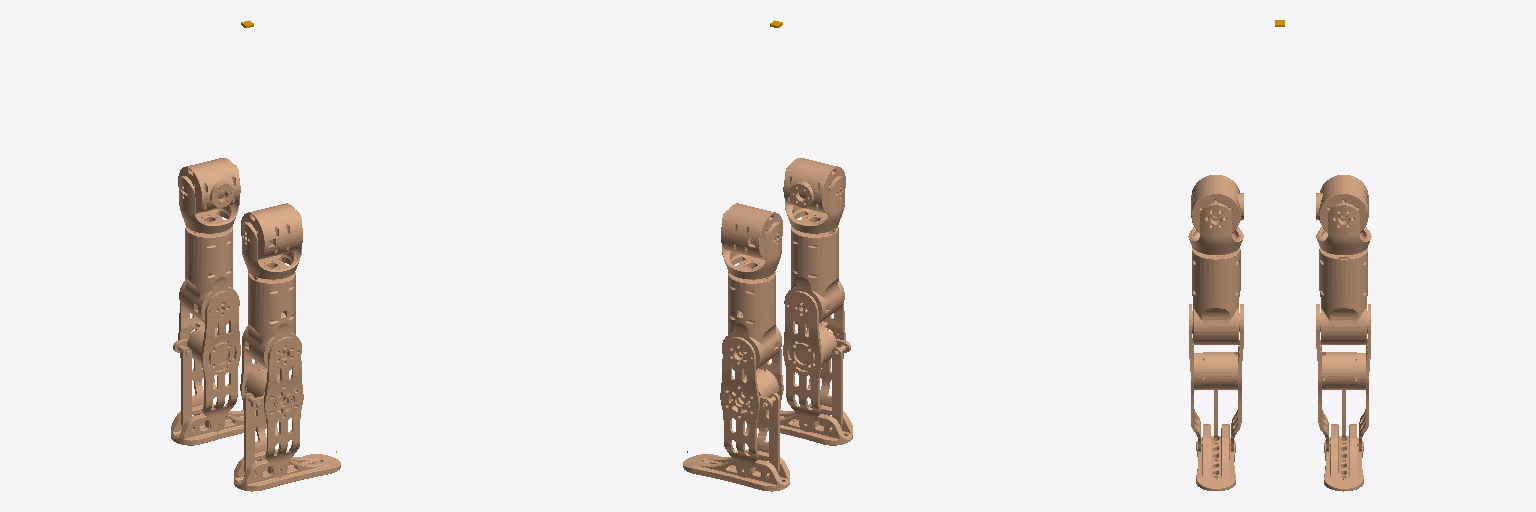
--- What the picture shows (computed from the rendered views, not written in the file) ---
Views: 3 orthographic renders of the robot side by side, from view 1: azimuth 30°, elevation 25°; view 2: azimuth 150°, elevation 25°; view 3: azimuth 270°, elevation 25°.
Model legged_dm_description_no_arm with 21 links and 20 joints (14 revolute, 6 fixed), rooted at base_link, posed every joint at zero.
Visible links, largest first — view 1: leg_l4_link, leg_r4_link, leg_r3_link, leg_l3_link, leg_r5_link, leg_r1_link, leg_l1_link, leg_l5_link, leg_l2_link, leg_r2_link; view 2: leg_r4_link, leg_l4_link, leg_l3_link, leg_r3_link, leg_l5_link, leg_r1_link, leg_l1_link, leg_r5_link, leg_l2_link, leg_r2_link; view 3: leg_r3_link, leg_l3_link, leg_l4_link, leg_r4_link, leg_r5_link, leg_l5_link, leg_r2_link, leg_l2_link, leg_l1_link, leg_r1_link.
Link boxes in pixels (x1,y1,x2,y2): leg_l4_link: (173,291,240,431); leg_r4_link: (240,337,303,477); leg_r3_link: (242,272,301,373); leg_l3_link: (179,226,239,327); leg_r5_link: (234,449,340,491); leg_r1_link: (241,203,302,259); leg_l1_link: (178,158,240,213); leg_l5_link: (171,404,277,445); leg_l2_link: (179,164,239,233); leg_r2_link: (242,210,301,279); leg_r4_link: (783,291,850,431); leg_l4_link: (720,337,783,477); leg_l3_link: (722,272,781,373); leg_r3_link: (784,226,844,327); leg_l5_link: (683,449,789,491); leg_r1_link: (783,158,845,213); leg_l1_link: (721,203,782,259); leg_r5_link: (746,404,852,445); leg_l2_link: (722,210,781,279); leg_r2_link: (785,164,844,233); leg_r3_link: (1192,248,1240,344); leg_l3_link: (1319,248,1367,344); leg_l4_link: (1316,304,1370,451); leg_r4_link: (1189,304,1243,451); leg_r5_link: (1196,424,1235,490); leg_l5_link: (1324,424,1363,491); leg_r2_link: (1188,203,1243,254); leg_l2_link: (1316,203,1371,254); leg_l1_link: (1316,175,1368,232); leg_r1_link: (1191,175,1243,232).
Bounding box of the posed robot: 0.1801 × 0.274 × 0.7254 m (x, y, z).
Meshes: 12 distinct files referenced, 10 mesh visuals loaded (10 binary STL); not drawn: 2 (reference not matched to a file when rendering).

robot.urdf — legged_dm_description_no_arm:
<?xml version="1.0" encoding="utf-8"?>
<!-- This URDF was automatically created by SolidWorks to URDF Exporter! Originally created by Stephen Brawner ([email redacted]) 
     Commit Version: 1.6.0-4-g7f85cfe  Build Version: 1.6.7995.38578
     For more information, please see http://wiki.ros.org/sw_urdf_exporter -->
<robot
  name="legged_dm_description_no_arm">
  
  
    <gazebo>
    <plugin name="gazebo_ros_control" filename="libdm_bipedal_hw_sim.so">
      <robotNamespace>/</robotNamespace>
      <robotParam>legged_robot_description</robotParam>
      <robotSimType>legged_gazebo/LeggedHWSim</robotSimType>
    </plugin>
  </gazebo>

  <gazebo>
    <plugin filename="libgazebo_ros_p3d.so" name="p3d_base_controller">
      <alwaysOn>true</alwaysOn>
      <updateRate>500.0</updateRate>
      <bodyName>base_link</bodyName>
      <topicName>ground_truth/state</topicName>
      <gaussianNoise>0</gaussianNoise>
      <frameName>world</frameName>
      <xyzOffsets>0 0 0</xyzOffsets>
      <rpyOffsets>0 0 0</rpyOffsets>
    </plugin>
  </gazebo>
  
  
     <joint name="imu_joint" type="fixed">
    <origin rpy="0. 0. 0." xyz="0. 0. 0"/>
    <parent link="base_link"/>
    <child link="imu_link"/>
  </joint>
  <!-- Imu link -->
  <link name="imu_link">
    <inertial>
      <mass value="0.01"/>
      <origin rpy="0 0 0" xyz="0 0 0"/>
      <inertia ixx="0.000001" ixy="0" ixz="0" iyy="0.000001" iyz="0" izz="0.000001"/>
    </inertial>
    <visual>
      <origin rpy="0 0 0" xyz="0 0 0"/>
      <geometry>
        <box size="0.015 0.015 0.004"/>
      </geometry>
    </visual>
    <material name="orange">
      <color rgba="255 108 10 255"/>
    </material>
  </link>
  <gazebo reference="imu_joint">
    <disableFixedJointLumping>true</disableFixedJointLumping>
  </gazebo>
  
  
  <link
    name="base_link">
    <inertial>
      <origin
        xyz="-0.012778 -0.00067 -0.129359"
        rpy="0 0 0" />
      <mass
        value="3.71439" />
      <inertia
        ixx="0.031142"
        ixy="-0.000028"
        ixz="-0.000387"
        iyy="0.025979"
        iyz="-0.000195"
        izz="0.014437" />
    </inertial>
    <visual>
      <origin
        xyz="0 0 0"
        rpy="0 0 0" />
      <geometry>
        <mesh
          filename="package://legged_dm_description/meshes/base_link.STL" />
      </geometry>
      <material
        name="">
        <color
          rgba="0.792156862745098 0.819607843137255 0.933333333333333 1" />
      </material>
    </visual>
    <collision>
      <origin
        xyz="-0.01 0 -0.11"
        rpy="0 0 0" />
      <geometry>
        <box size="0.10 0.12 0.24" />
      </geometry>
    </collision>
  </link>
  
  
  <link
    name="loin_yaw_Link">
    <inertial>
      <origin
        xyz="-0.00002 0.0 -0.0515"
        rpy="0 0 0" />
      <mass
        value="1.1846" />
      <inertia
        ixx="0.002262"
        ixy="-0.000001"
        ixz="0.000011"
        iyy="0.001324"
        iyz="0.0"
        izz="0.002179" />
    </inertial>
    <visual>
      <origin
        xyz="0 0 0"
        rpy="0 0 0" />
      <geometry>
        <mesh
          filename="package://legged_dm_description/meshes/loin_yaw_Link.STL" />
      </geometry>
      <material
        name="">
        <color
          rgba="0.792156862745098 0.819607843137255 0.933333333333333 1" />
      </material>
    </visual>
    <collision>
      <origin
        xyz="0 0 -0.045"
        rpy="0 0 0" />
      <geometry>
        <box size="0.08 0.1 0.07" />
      </geometry>
    </collision>
  </link>
  <joint
    name="loin_yaw_joint"
    type="fixed">
    <origin
      xyz="-0.012333 0 -0.24525"
      rpy="0 0 0" />
    <parent
      link="base_link" />
    <child
      link="loin_yaw_Link" />
    <axis
      xyz="0 0 0" />
  </joint>
  
  
  <link
    name="leg_l1_link">
    <inertial>
      <origin
        xyz="0.003165 0.041652 -0.000064"
        rpy="0 0 0" />
      <mass
        value="0.492347" />
      <inertia
        ixx="0.000303"
        ixy="-0.000002"
        ixz="-0.000001"
        iyy="0.00030"
        iyz="0.00000"
        izz="0.000304" />
    </inertial>
    <visual>
      <origin
        xyz="0 0 0"
        rpy="0 0 0" />
      <geometry>
        <mesh
          filename="package://legged_dm_description/meshes/leg_l1_link.STL" />
      </geometry>
      <material
        name="">
        <color
          rgba="0.854901960784314 0.674509803921569 0.541176470588235 1" />
      </material>
    </visual>
    <collision>
      <origin
        xyz="0 0 0"
        rpy="0 0 0" />
      <geometry>
        <box size="0.0001 0.0001 0.0001" />
      </geometry>
    </collision>
  </link>
  <joint
    name="leg_l1_joint"
    type="revolute">
    <origin
      xyz="3.7385E-05 0.05355 -0.062"
      rpy="0 0 0" />
    <parent
      link="loin_yaw_Link" />
    <child
      link="leg_l1_link" />
    <axis
      xyz="0 1 0" />
    <limit
      lower="-1.05"
      upper="1.05"
      effort="26"
      velocity="10" />
  </joint>
  
  
  <link
    name="leg_l2_link">
    <inertial>
      <origin
        xyz="-0.031797 0.000022 -0.037074"
        rpy="0 0 0" />
      <mass
        value="0.11551" />
      <inertia
        ixx="0.000117"
        ixy="0.0"
        ixz="0.000003"
        iyy="0.000192"
        iyz="0.0"
        izz="0.000149" />
    </inertial>
    <visual>
      <origin
        xyz="0 0 0"
        rpy="0 0 0" />
      <geometry>
        <mesh
          filename="package://legged_dm_description/meshes/leg_l2_link.STL" />
      </geometry>
      <material
        name="">
        <color
          rgba="0.854901960784314 0.674509803921569 0.541176470588235 1" />
      </material>
    </visual>
    <collision>
      <origin
        xyz="0 0 0"
        rpy="0 0 0" />
      <geometry>
        <box size="0.0001 0.0001 0.0001" />
      </geometry>
    </collision>
  </link>
  <joint
    name="leg_l2_joint"
    type="revolute">
    <origin
      xyz="0.031079 0.041978 0"
      rpy="0 0 0" />
    <parent
      link="leg_l1_link" />
    <child
      link="leg_l2_link" />
    <axis
      xyz="1 0 0" />
    <limit
      lower="-0.52"
      upper="0.785"
      effort="26"
      velocity="10" />
  </joint>
  
  
  <link
    name="leg_l3_link">
    <inertial>
      <origin
        xyz="-0.000094 0.001497 -0.07069"
        rpy="0 0 0" />
      <mass
        value="0.921105" />
      <inertia
        ixx="0.002384"
        ixy="0.000001"
        ixz="0.00001"
        iyy="0.002365"
        iyz="0.000068"
        izz="0.000563" />
    </inertial>
    <visual>
      <origin
        xyz="0 0 0"
        rpy="0 0 0" />
      <geometry>
        <mesh
          filename="package://legged_dm_description/meshes/leg_l3_link.STL" />
      </geometry>
      <material
        name="">
        <color
          rgba="0.854901960784314 0.674509803921569 0.541176470588235 1" />
      </material>
    </visual>
    <collision>
      <origin
        xyz="0 0 0"
        rpy="0 0 0" />
      <geometry>
        <box size="0.0001 0.0001 0.0001" />
      </geometry>
    </collision>
  </link>
  <joint
    name="leg_l3_joint"
    type="revolute">
    <origin
      xyz="-0.03105 2.1677E-05 -0.07405"
      rpy="0 0 0" />
    <parent
      link="leg_l2_link" />
    <child
      link="leg_l3_link" />
    <axis
      xyz="0 0 1" />
    <limit
      lower="-0.52"
      upper="0.785"
      effort="26"
      velocity="10" />
  </joint>
  
  
  <link
    name="leg_l4_link">
    <inertial>
      <origin
        xyz="-0.003284 -0.032312 -0.084258"
        rpy="0 0 0" />
      <mass
        value="0.519684" />
      <inertia
        ixx="0.001062"
        ixy="0.000007"
        ixz="-0.000074"
        iyy="0.000984"
        iyz="0.000007"
        izz="0.000426" />
    </inertial>
    <visual>
      <origin
        xyz="0 0 0"
        rpy="0 0 0" />
      <geometry>
        <mesh
          filename="package://legged_dm_description/meshes/leg_l4_link.STL" />
      </geometry>
      <material
        name="">
        <color
          rgba="0.854901960784314 0.674509803921569 0.541176470588235 1" />
      </material>
    </visual>
    <collision>
      <origin xyz="0 -0.03 -0.1" rpy="0 0 0" />
      <geometry>
        <box size="0.041 0.07 0.15" />
      </geometry>
    </collision>
  </link>
  <joint
    name="leg_l4_joint"
    type="revolute">
    <origin
      xyz="2.1677E-05 0.03105 -0.11705"
      rpy="0 0 0" />
    <parent
      link="leg_l3_link" />
    <child
      link="leg_l4_link" />
    <axis
      xyz="0 1 0" />
    <limit
      lower="-0.3"
      upper="2.3562"
      effort="26"
      velocity="10" />
  </joint>
  
  
  <link
    name="leg_l5_link">
    <inertial>
      <origin
        xyz="0.01392 -0.008010 -0.013513"
        rpy="0 0 0" />
      <mass
        value="0.172725" />
      <inertia
        ixx="0.000062"
        ixy="0.0"
        ixz="0.000027"
        iyy="0.000375"
        iyz="0.0"
        izz="0.0004" />
    </inertial>
    <visual>
      <origin
        xyz="0 0 0"
        rpy="0 0 0" />
      <geometry>
        <mesh
          filename="package://legged_dm_description/meshes/leg_l5_link.STL" />
      </geometry>
      <material
        name="">
        <color
          rgba="0.854901960784314 0.674509803921569 0.541176470588235 1" />
      </material>
    </visual>
     <collision>
      <origin
        xyz="0.027 -0.008 -0.015"
        rpy="0 0 0" />
      <geometry>
        <box size="0.175 0.06 0.02" />
      </geometry>
    </collision>
  </link>
  <joint
    name="leg_l5_joint"
    type="revolute">
    <origin
      xyz="-3.1151E-05 -0.02305 -0.2"
      rpy="0 0 0" />
    <parent
      link="leg_l4_link" />
    <child
      link="leg_l5_link" />
    <axis
      xyz="0 1 0" />
    <limit
      lower="-1.047"
      upper="0.3"
      effort="26"
      velocity="10" />
  </joint>
    <!-- ===== Left leg extra joints for 6 & 7 ===== -->
  <link name="leg_l6_link">
    <inertial>
      <origin xyz="0 0 0" rpy="0 0 0"/>
      <mass value="0.01"/>
      <inertia ixx="1e-6" ixy="0" ixz="0" iyy="1e-6" iyz="0" izz="1e-6"/>
    </inertial>
    <visual><origin xyz="0 0 0" rpy="0 0 0"/><geometry><sphere radius="0.001"/></geometry></visual>
    <collision><origin xyz="0 0 0" rpy="0 0 0"/><geometry><sphere radius="0.001"/></geometry></collision>
  </link>
  <joint name="leg_l6_joint" type="revolute">
    <origin xyz="0 0 0" rpy="0 0 0"/>
    <parent link="leg_l5_link"/>
    <child  link="leg_l6_link"/>
    <axis xyz="0 1 0"/>
    <limit lower="-1.57" upper="1.57" effort="26" velocity="10"/>
  </joint>

  <link name="leg_l7_link">
    <inertial>
      <origin xyz="0 0 0" rpy="0 0 0"/>
      <mass value="0.01"/>
      <inertia ixx="1e-6" ixy="0" ixz="0" iyy="1e-6" iyz="0" izz="1e-6"/>
    </inertial>
    <visual><origin xyz="0 0 0" rpy="0 0 0"/><geometry><sphere radius="0.001"/></geometry></visual>
    <collision><origin xyz="0 0 0" rpy="0 0 0"/><geometry><sphere radius="0.001"/></geometry></collision>
  </link>
  <joint name="leg_l7_joint" type="revolute">
    <origin xyz="0 0 0" rpy="0 0 0"/>
    <parent link="leg_l6_link"/>
    <child  link="leg_l7_link"/>
    <axis xyz="0 1 0"/>
    <limit lower="-1.57" upper="1.57" effort="26" velocity="10"/>
  </joint>

  
  
  <joint name="leg_l5_fixed_1" type="fixed">
    <origin xyz="0.113 -0.008 -0.006" rpy="0 0 0" />
    <parent link="leg_l5_link" />
    <child link="leg_l_f1_link" />
  </joint>
  <link name="leg_l_f1_link">
    <inertial>
      <mass value="0.01" />
      <inertia ixx="0.000001" ixy="0" ixz="0" iyy="0.000001" iyz="0" izz="0.000001" />
    </inertial>
    <visual>
      <origin rpy="0 0 0" xyz="0 0 0"/>
      <geometry>
        <sphere radius="0.001"/>
      </geometry>
    </visual>
    <collision>
      <origin rpy="0 0 0" xyz="0 0 0"/>
      <geometry>
        <sphere radius="0.001"/>
      </geometry>
    </collision>
  </link>

  <joint name="leg_l5_fixed_2" type="fixed">
    <origin xyz="-0.061 -0.008 -0.006" rpy="0 0 0" />
    <parent link="leg_l5_link" />
    <child link="leg_l_f2_link" />
  </joint>
  <link name="leg_l_f2_link">
    <inertial>
      <mass value="0.01" />
      <inertia ixx="0.000001" ixy="0" ixz="0" iyy="0.000001" iyz="0" izz="0.000001" />
    </inertial>
    <visual>
      <origin rpy="0 0 0" xyz="0 0 0"/>
      <geometry>
        <sphere radius="0.001"/>
      </geometry>
    </visual>
    <collision>
      <origin rpy="0 0 0" xyz="-0 0 0"/>
      <geometry>
        <sphere radius="0.001"/>
      </geometry>
    </collision>
  </link>

   <gazebo reference="leg_l1_link">
    <mu1>0.6</mu1>
    <mu2>0.6</mu2>
    <self_collide>1</self_collide>
  </gazebo>
  <gazebo reference="leg_l2_link">
    <mu1>0.6</mu1>
    <mu2>0.6</mu2>
    <self_collide>1</self_collide>
  </gazebo>
  <gazebo reference="leg_l3_link">
    <mu1>0.6</mu1>
    <mu2>0.6</mu2>
    <self_collide>1</self_collide>
  </gazebo>
  <gazebo reference="leg_l4_link">
    <mu1>0.6</mu1>
    <mu2>0.6</mu2>
    <self_collide>1</self_collide>
  </gazebo>
  <gazebo reference="leg_l5_link">
    <mu1>0.7</mu1>
    <mu2>0.7</mu2>
    <self_collide>1</self_collide>
    <kp value="1000000.0"/>
    <kd value="100.0"/>
    <maxVel>1.0</maxVel>
    <minDepth>0.00</minDepth>
  </gazebo>
  <gazebo reference="leg_l_f1_link">
    <mu1>1.5</mu1>
    <mu2>1.5</mu2>
    <self_collide>1</self_collide>
    <kp value="1000000.0"/>
    <kd value="100.0"/>
    <maxVel>1.0</maxVel>
    <minDepth>0.00</minDepth>
  </gazebo>
  <gazebo reference="leg_l_f2_link">
    <mu1>1.5</mu1>
    <mu2>1.5</mu2>
    <self_collide>1</self_collide>
    <kp value="1000000.0"/>
    <kd value="100.0"/>
    <maxVel>1.0</maxVel>
    <minDepth>0.00</minDepth>
  </gazebo>

  <transmission name="leg_l1_tran">
    <type>transmission_interface/SimpleTransmission</type>
    <joint name="leg_l1_joint">
      <hardwareInterface>hardware_interface/EffortJointInterface</hardwareInterface>
    </joint>
    <actuator name="leg_l1_motor">
      <hardwareInterface>hardware_interface/EffortJointInterface</hardwareInterface>
      <mechanicalReduction>1</mechanicalReduction>
    <maxVelocity>1.484</maxVelocity><!-- 85rpm -->
	  <maxEffort>36.0</maxEffort><!-- 36Nm -->
    </actuator>
  </transmission>

  <transmission name="leg_l2_tran">
    <type>transmission_interface/SimpleTransmission</type>
    <joint name="leg_l2_joint">
      <hardwareInterface>hardware_interface/EffortJointInterface</hardwareInterface>
    </joint>
    <actuator name="leg_l2_motor">
      <hardwareInterface>hardware_interface/EffortJointInterface</hardwareInterface>
      <mechanicalReduction>1</mechanicalReduction>
    <maxVelocity>2.6545</maxVelocity><!-- 160rpm -->
	  <maxEffort>94.0</maxEffort><!-- 94Nm -->
    </actuator>
  </transmission>

  <transmission name="leg_l3_tran">
    <type>transmission_interface/SimpleTransmission</type>
    <joint name="leg_l3_joint">
      <hardwareInterface>hardware_interface/EffortJointInterface</hardwareInterface>
    </joint>
    <actuator name="leg_l3_motor">
      <hardwareInterface>hardware_interface/EffortJointInterface</hardwareInterface>
      <mechanicalReduction>1</mechanicalReduction>
    <maxVelocity>2.6545</maxVelocity><!-- 160rpm -->
	  <maxEffort>94.0</maxEffort><!-- 94Nm -->
    </actuator>
  </transmission>

  <transmission name="leg_l4_tran">
    <type>transmission_interface/SimpleTransmission</type>
    <joint name="leg_l4_joint">
      <hardwareInterface>hardware_interface/EffortJointInterface</hardwareInterface>
    </joint>
    <actuator name="leg_l4_motor">
      <hardwareInterface>hardware_interface/EffortJointInterface</hardwareInterface>
      <mechanicalReduction>1</mechanicalReduction>
    <maxVelocity>1.484</maxVelocity><!-- 85rpm -->
	<maxEffort>36.0</maxEffort><!-- 36Nm -->
    </actuator>
  </transmission>

  <transmission name="leg_l5_tran">
    <type>transmission_interface/SimpleTransmission</type>
    <joint name="leg_l5_joint">
      <hardwareInterface>hardware_interface/EffortJointInterface</hardwareInterface>
    </joint>
    <actuator name="leg_l5_motor">
      <hardwareInterface>hardware_interface/EffortJointInterface</hardwareInterface>
      <mechanicalReduction>1</mechanicalReduction>
    </actuator>
  </transmission>

    <transmission name="leg_l6_tran">
    <type>transmission_interface/SimpleTransmission</type>
    <joint name="leg_l6_joint">
      <hardwareInterface>hardware_interface/EffortJointInterface</hardwareInterface>
    </joint>
    <actuator name="leg_l6_motor">
      <hardwareInterface>hardware_interface/EffortJointInterface</hardwareInterface>
      <mechanicalReduction>1</mechanicalReduction>
    </actuator>
  </transmission>

  <transmission name="leg_l7_tran">
    <type>transmission_interface/SimpleTransmission</type>
    <joint name="leg_l7_joint">
      <hardwareInterface>hardware_interface/EffortJointInterface</hardwareInterface>
    </joint>
    <actuator name="leg_l7_motor">
      <hardwareInterface>hardware_interface/EffortJointInterface</hardwareInterface>
      <mechanicalReduction>1</mechanicalReduction>
    </actuator>
  </transmission>




  
  <link
    name="leg_r1_link">
    <inertial>
      <origin
        xyz="0.003106 -0.041675 -0.000072"
        rpy="0 0 0" />
      <mass
        value="0.4921" />
      <inertia
        ixx="0.000303"
        ixy="0.000002"
        ixz="-0.000001"
        iyy="0.0003"
        iyz="0.0"
        izz="0.000304" />
    </inertial>
    <visual>
      <origin
        xyz="0 0 0"
        rpy="0 0 0" />
      <geometry>
        <mesh
          filename="package://legged_dm_description/meshes/leg_r1_link.STL" />
      </geometry>
      <material
        name="">
        <color
          rgba="0.854901960784314 0.674509803921569 0.541176470588235 1" />
      </material>
    </visual>
    <collision>
      <origin
        xyz="0 0 0"
        rpy="0 0 0" />
      <geometry>
        <box size="0.0001 0.0001 0.0001" />
      </geometry>
    </collision>
  </link>
  <joint
    name="leg_r1_joint"
    type="revolute">
    <origin
      xyz="-3.7385E-05 -0.05355 -0.062"
      rpy="0 0 0" />
    <parent
      link="loin_yaw_Link" />
    <child
      link="leg_r1_link" />
    <axis
      xyz="0 1 0" />
    <limit
      lower="-1.05"
      upper="1.05"
      effort="26"
      velocity="10" />
  </joint>
  
  
  <link
    name="leg_r2_link">
    <inertial>
      <origin
        xyz="-0.031797 0.000022 -0.037074"
        rpy="0 0 0" />
      <mass
        value="0.115510" />
      <inertia
        ixx="0.000117"
        ixy="0.0"
        ixz="0.000003"
        iyy="0.000192"
        iyz="0.0"
        izz="0.000149" />
    </inertial>
    <visual>
      <origin
        xyz="0 0 0"
        rpy="0 0 0" />
      <geometry>
        <mesh
          filename="package://legged_dm_description/meshes/leg_r2_link.STL" />
      </geometry>
      <material
        name="">
        <color
          rgba="0.854901960784314 0.674509803921569 0.541176470588235 1" />
      </material>
    </visual>
    <collision>
      <origin
        xyz="0 0 0"
        rpy="0 0 0" />
      <geometry>
        <box size="0.0001 0.0001 0.0001" />
      </geometry>
    </collision>
  </link>
  <joint
    name="leg_r2_joint"
    type="revolute">
    <origin
      xyz="0.031021 -0.042022 0"
      rpy="0 0 0" />
    <parent
      link="leg_r1_link" />
    <child
      link="leg_r2_link" />
    <axis
      xyz="1 0 0" />
    <limit
      lower="-0.785"
      upper="0.52"
      effort="26"
      velocity="10" />
  </joint>
  
  
  <link
    name="leg_r3_link">
    <inertial>
      <origin
        xyz="0.000186 -0.001497 -0.070691"
        rpy="0 0 0" />
      <mass
        value="0.921105" />
      <inertia
        ixx="0.002384"
        ixy="-0.000001"
        ixz="-0.000006"
        iyy="0.002365"
        iyz="-0.000068"
        izz="0.000563" />
    </inertial>
    <visual>
      <origin
        xyz="0 0 0"
        rpy="0 0 0" />
      <geometry>
        <mesh
          filename="package://legged_dm_description/meshes/leg_r3_link.STL" />
      </geometry>
      <material
        name="">
        <color
          rgba="0.854901960784314 0.674509803921569 0.541176470588235 1" />
      </material>
    </visual>
    <collision>
      <origin
        xyz="0 0 0"
        rpy="0 0 0" />
      <geometry>
        <box size="0.0001 0.0001 0.0001" />
      </geometry>
    </collision>
  </link>
  <joint
    name="leg_r3_joint"
    type="revolute">
    <origin
      xyz="-0.03105 2.1677E-05 -0.07405"
      rpy="0 0 0" />
    <parent
      link="leg_r2_link" />
    <child
      link="leg_r3_link" />
    <axis
      xyz="0 0 1" />
    <limit
      lower="-0.785"
      upper="0.52"
      effort="26"
      velocity="10" />
  </joint>
  
  
  <link
    name="leg_r4_link">
    <inertial>
      <origin
        xyz="-0.00318 0.032366 -0.084259"
        rpy="0 0 0" />
      <mass
        value="0.519684" />
      <inertia
        ixx="0.001062"
        ixy="-0.000008"
        ixz="-0.000074"
        iyy="0.000984"
        iyz="-0.000007"
        izz="0.000426" />
    </inertial>
    <visual>
      <origin
        xyz="0 0 0"
        rpy="0 0 0" />
      <geometry>
        <mesh
          filename="package://legged_dm_description/meshes/leg_r4_link.STL" />
      </geometry>
      <material
        name="">
        <color
          rgba="0.854901960784314 0.674509803921569 0.541176470588235 1" />
      </material>
    </visual>
    <collision>
      <origin xyz="0 0.03 -0.1" rpy="0 0 0" />
      <geometry>
        <box size="0.041 0.07 0.15" />
      </geometry>
    </collision>
  </link>
  <joint
    name="leg_r4_joint"
    type="revolute">
    <origin
      xyz="-2.1677E-05 -0.03105 -0.11705"
      rpy="0 0 0" />
    <parent
      link="leg_r3_link" />
    <child
      link="leg_r4_link" />
    <axis
      xyz="0 1 0" />
    <limit
      lower="-0.3"
      upper="2.3562"
      effort="26"
      velocity="10" />
  </joint>
  
  
  <link
    name="leg_r5_link">
    <inertial>
      <origin
        xyz="0.013933 0.007990 -0.013512"
        rpy="0 0 0" />
      <mass
        value="0.172725" />
      <inertia
        ixx="0.000062"
        ixy="0.0"
        ixz="0.000027"
        iyy="0.000375"
        iyz="0.0"
        izz="0.0004" />
    </inertial>
    <visual>
      <origin
        xyz="0 0 0"
        rpy="0 0 0" />
      <geometry>
        <mesh
          filename="package://legged_dm_description/meshes/leg_r5_link.STL" />
      </geometry>
      <material
        name="">
        <color
          rgba="0.854901960784314 0.674509803921569 0.541176470588235 1" />
      </material>
    </visual>
    <collision>
      <origin
        xyz="0.027 0.008 -0.015"
        rpy="0 0 0" />
      <geometry>
        <box size="0.175 0.06 0.02" />
      </geometry>
    </collision>
  </link>
  <joint
    name="leg_r5_joint"
    type="revolute">
    <origin
      xyz="1.6127E-05 0.0231 -0.2"
      rpy="0 0 0" />
    <parent
      link="leg_r4_link" />
    <child
      link="leg_r5_link" />
    <axis
      xyz="0 1 0" />
    <limit
      lower="-1.047"
      upper="0.3"
      effort="26"
      velocity="10" />
  </joint>
  
    <!-- ===== Right leg extra joints for 6 & 7 ===== -->
  <link name="leg_r6_link">
    <inertial>
      <origin xyz="0 0 0" rpy="0 0 0"/>
      <mass value="0.01"/>
      <inertia ixx="1e-6" ixy="0" ixz="0" iyy="1e-6" iyz="0" izz="1e-6"/>
    </inertial>
    <visual><origin xyz="0 0 0" rpy="0 0 0"/><geometry><sphere radius="0.001"/></geometry></visual>
    <collision><origin xyz="0 0 0" rpy="0 0 0"/><geometry><sphere radius="0.001"/></geometry></collision>
  </link>
  <joint name="leg_r6_joint" type="revolute">
    <origin xyz="0 0 0" rpy="0 0 0"/>
    <parent link="leg_r5_link"/>
    <child  link="leg_r6_link"/>
    <axis xyz="0 1 0"/>
    <limit lower="-1.57" upper="1.57" effort="26" velocity="10"/>
  </joint>

  <link name="leg_r7_link">
    <inertial>
      <origin xyz="0 0 0" rpy="0 0 0"/>
      <mass value="0.01"/>
      <inertia ixx="1e-6" ixy="0" ixz="0" iyy="1e-6" iyz="0" izz="1e-6"/>
    </inertial>
    <visual><origin xyz="0 0 0" rpy="0 0 0"/><geometry><sphere radius="0.001"/></geometry></visual>
    <collision><origin xyz="0 0 0" rpy="0 0 0"/><geometry><sphere radius="0.001"/></geometry></collision>
  </link>
  <joint name="leg_r7_joint" type="revolute">
    <origin xyz="0 0 0" rpy="0 0 0"/>
    <parent link="leg_r6_link"/>
    <child  link="leg_r7_link"/>
    <axis xyz="0 1 0"/>
    <limit lower="-1.57" upper="1.57" effort="26" velocity="10"/>
  </joint>



  <joint name="leg_r5_fixed_1" type="fixed">
    <origin xyz="0.113 0.008 -0.006" rpy="0 0 0" />
    <parent link="leg_r5_link" />
    <child link="leg_r_f1_link" />
  </joint>
  <link name="leg_r_f1_link">
    <inertial>
      <mass value="0.01" />
      <inertia ixx="0.000001" ixy="0" ixz="0" iyy="0.000001" iyz="0" izz="0.000001" />
    </inertial>
    <visual>
      <origin rpy="0 0 0" xyz="0 0 0"/>
      <geometry>
        <sphere radius="0.001"/>
      </geometry>
    </visual>
    <collision>
      <origin rpy="0 0 0" xyz="0 0 0"/>
      <geometry>
        <sphere radius="0.001"/>
      </geometry>
    </collision>
  </link>

  <joint name="leg_r5_fixed_2" type="fixed">
    <origin xyz="-0.061 0.008 -0.006" rpy="0 0 0" />
    <parent link="leg_r5_link" />
    <child link="leg_r_f2_link" />
  </joint>
  <link name="leg_r_f2_link">
    <inertial>
      <mass value="0.01" />
      <inertia ixx="0.000001" ixy="0" ixz="0" iyy="0.000001" iyz="0" izz="0.000001" />
    </inertial>
    <visual>
      <origin rpy="0 0 0" xyz="0 0 0"/>
      <geometry>
        <sphere radius="0.001"/>
      </geometry>
    </visual>
    <collision>
      <origin rpy="0 0 0" xyz="0 0 0"/>
      <geometry>
        <sphere radius="0.001"/>
      </geometry>
    </collision>
  </link>

  
  
    <gazebo reference="leg_r1_link">
    <mu1>0.6</mu1>
    <mu2>0.6</mu2>
    <self_collide>1</self_collide>
  </gazebo>
  <gazebo reference="leg_r2_link">
    <mu1>0.6</mu1>
    <mu2>0.6</mu2>
    <self_collide>1</self_collide>
  </gazebo>
  <gazebo reference="leg_r3_link">
    <mu1>0.6</mu1>
    <mu2>0.6</mu2>
    <self_collide>1</self_collide>
  </gazebo>
  <gazebo reference="leg_r4_link">
    <mu1>0.6</mu1>
    <mu2>0.6</mu2>
    <self_collide>1</self_collide>
  </gazebo>
  <gazebo reference="leg_r5_link">
    <mu1>0.7</mu1>
    <mu2>0.7</mu2>
    <self_collide>1</self_collide>
    <kp value="1000000.0"/>
    <kd value="100.0"/>
    <maxVel>1.0</maxVel>
    <minDepth>0.00</minDepth>
  </gazebo>
  <gazebo reference="leg_r_f1_link">
    <mu1>1.5</mu1>
    <mu2>1.5</mu2>
    <self_collide>1</self_collide>
    <kp value="1000000.0"/>
    <kd value="100.0"/>
    <maxVel>1.0</maxVel>
    <minDepth>0.00</minDepth>
  </gazebo>
  <gazebo reference="leg_r_f2_link">
    <mu1>1.5</mu1>
    <mu2>1.5</mu2>
    <self_collide>1</self_collide>
    <kp value="1000000.0"/>
    <kd value="100.0"/>
    <maxVel>1.0</maxVel>
    <minDepth>0.00</minDepth>
  </gazebo>

  <transmission name="leg_r1_tran">
    <type>transmission_interface/SimpleTransmission</type>
    <joint name="leg_r1_joint">
      <hardwareInterface>hardware_interface/EffortJointInterface</hardwareInterface>
    </joint>
    <actuator name="leg_r1_motor">
      <hardwareInterface>hardware_interface/EffortJointInterface</hardwareInterface>
      <mechanicalReduction>1</mechanicalReduction>
      	  <maxVelocity>1.484</maxVelocity><!-- 85rpm -->
	<maxEffort>36.0</maxEffort><!-- 36Nm -->
    </actuator>
  </transmission>

  <transmission name="leg_r2_tran">
    <type>transmission_interface/SimpleTransmission</type>
    <joint name="leg_r2_joint">
      <hardwareInterface>hardware_interface/EffortJointInterface</hardwareInterface>
    </joint>
    <actuator name="leg_r2_motor">
      <hardwareInterface>hardware_interface/EffortJointInterface</hardwareInterface>
      <mechanicalReduction>1</mechanicalReduction>
      	  <maxVelocity>2.6545</maxVelocity><!-- 160rpm -->
	  <maxEffort>94.0</maxEffort><!-- 94Nm -->
    </actuator>
  </transmission>

  <transmission name="leg_r3_tran">
    <type>transmission_interface/SimpleTransmission</type>
    <joint name="leg_r3_joint">
      <hardwareInterface>hardware_interface/EffortJointInterface</hardwareInterface>
    </joint>
    <actuator name="leg_r3_motor">
      <hardwareInterface>hardware_interface/EffortJointInterface</hardwareInterface>
      <mechanicalReduction>1</mechanicalReduction>
      	  <maxVelocity>2.6545</maxVelocity><!-- 160rpm -->
	  <maxEffort>94.0</maxEffort><!-- 94Nm -->
    </actuator>
  </transmission>

  <transmission name="leg_r4_tran">
    <type>transmission_interface/SimpleTransmission</type>
    <joint name="leg_r4_joint">
      <hardwareInterface>hardware_interface/EffortJointInterface</hardwareInterface>
    </joint>
    <actuator name="leg_r4_motor">
      <hardwareInterface>hardware_interface/EffortJointInterface</hardwareInterface>
      <mechanicalReduction>1</mechanicalReduction>
      	  <maxVelocity>1.484</maxVelocity><!-- 85rpm -->
	<maxEffort>36.0</maxEffort><!-- 36Nm -->
    </actuator>
  </transmission>

  <transmission name="leg_r5_tran">
    <type>transmission_interface/SimpleTransmission</type>
    <joint name="leg_r5_joint">
      <hardwareInterface>hardware_interface/EffortJointInterface</hardwareInterface>
    </joint>
    <actuator name="leg_r5_motor">
      <hardwareInterface>hardware_interface/EffortJointInterface</hardwareInterface>
      <mechanicalReduction>1</mechanicalReduction>
    </actuator>
  </transmission>
    <transmission name="leg_r6_tran">
    <type>transmission_interface/SimpleTransmission</type>
    <joint name="leg_r6_joint">
      <hardwareInterface>hardware_interface/EffortJointInterface</hardwareInterface>
    </joint>
    <actuator name="leg_r6_motor">
      <hardwareInterface>hardware_interface/EffortJointInterface</hardwareInterface>
      <mechanicalReduction>1</mechanicalReduction>
    </actuator>
  </transmission>

  <transmission name="leg_r7_tran">
    <type>transmission_interface/SimpleTransmission</type>
    <joint name="leg_r7_joint">
      <hardwareInterface>hardware_interface/EffortJointInterface</hardwareInterface>
    </joint>
    <actuator name="leg_r7_motor">
      <hardwareInterface>hardware_interface/EffortJointInterface</hardwareInterface>
      <mechanicalReduction>1</mechanicalReduction>
    </actuator>
  </transmission>


</robot>
